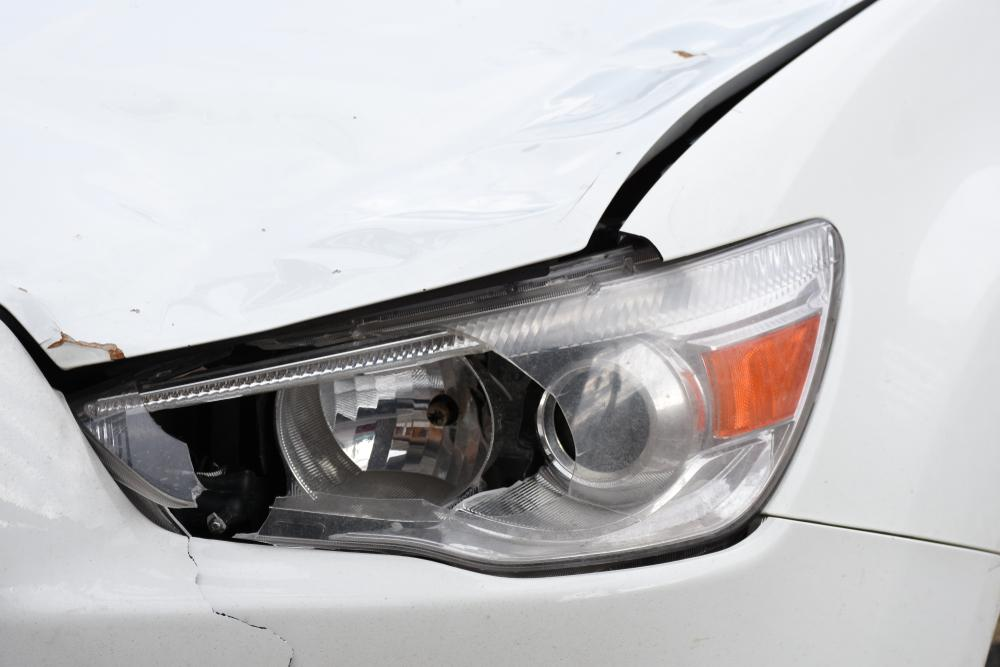crack: (185, 538, 294, 667)
dent: (202, 0, 821, 303)
lamp broken: (64, 221, 845, 570)
